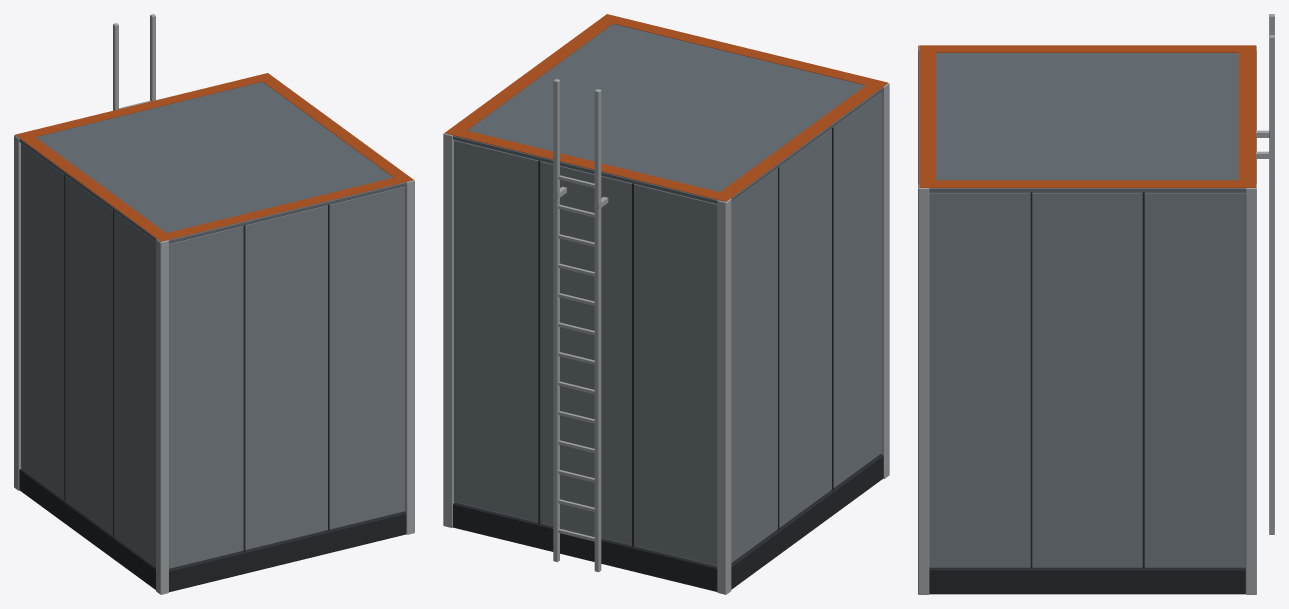
3 renders of one model, left to right at view 1: azimuth 30°, elevation 25°; view 2: azimuth 150°, elevation 25°; view 3: azimuth 270°, elevation 25°, orthographic. The views are drawn at different scales.
Visible parts, largest first — view 1: TY_PF_4; view 2: TY_PF_4; view 3: TY_PF_4.
Part boxes in pixels (x1,y1,x2,y2): TY_PF_4: [14, 14, 414, 594]; TY_PF_4: [443, 14, 889, 594]; TY_PF_4: [918, 14, 1274, 594].
Bounding box in the file's own units: 3.02 × 4.9 × 3.18.
